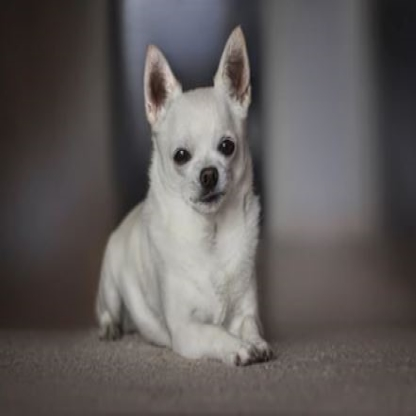chihuahua: (93, 21, 281, 368)
